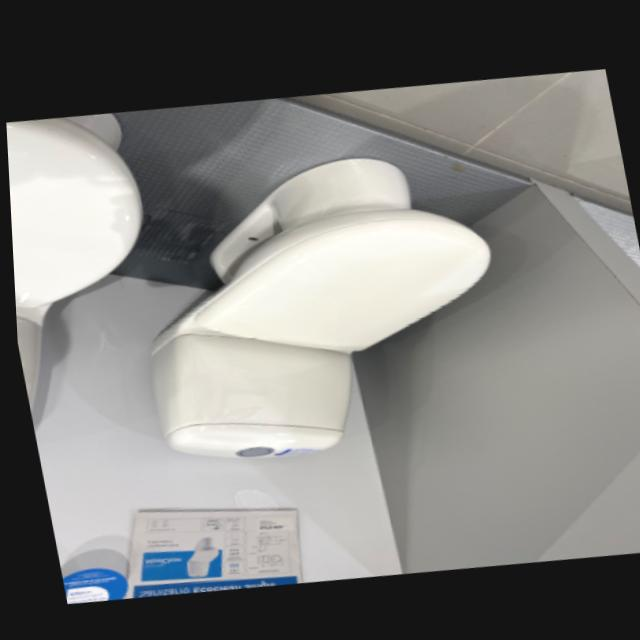toilet: (109, 128, 523, 482), (4, 106, 175, 420)
